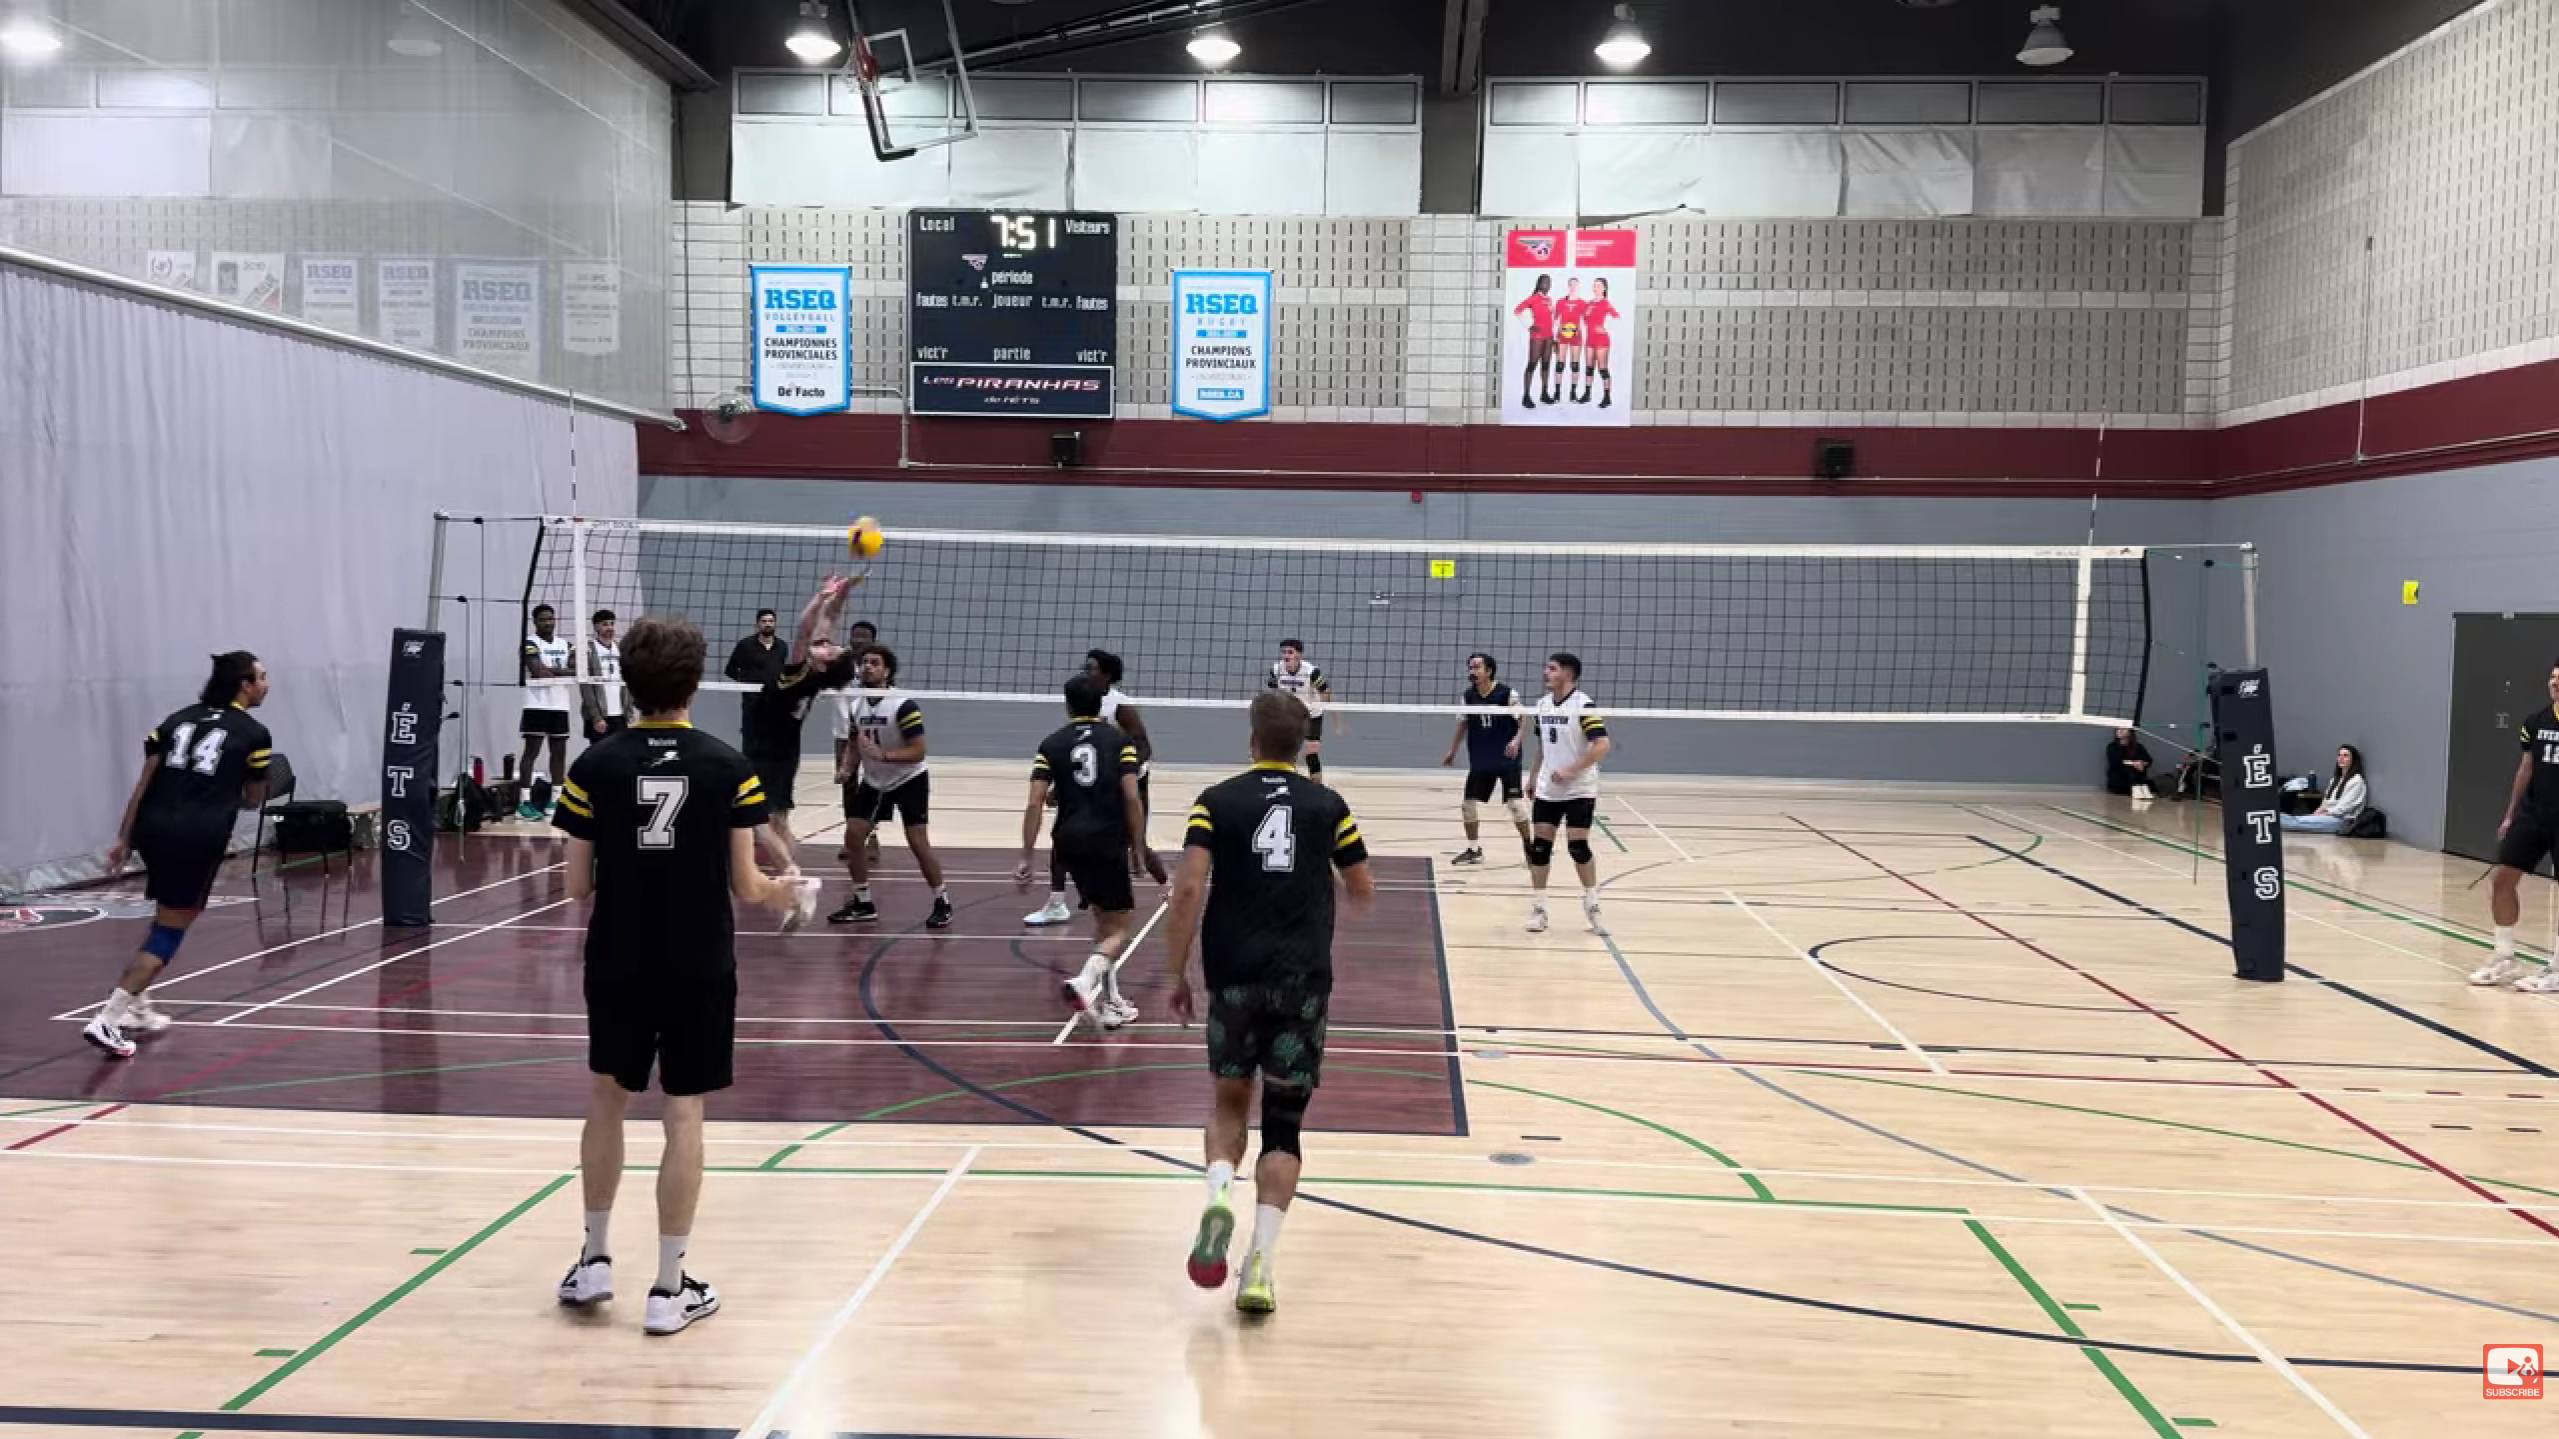Ball: (844, 513, 889, 562)
